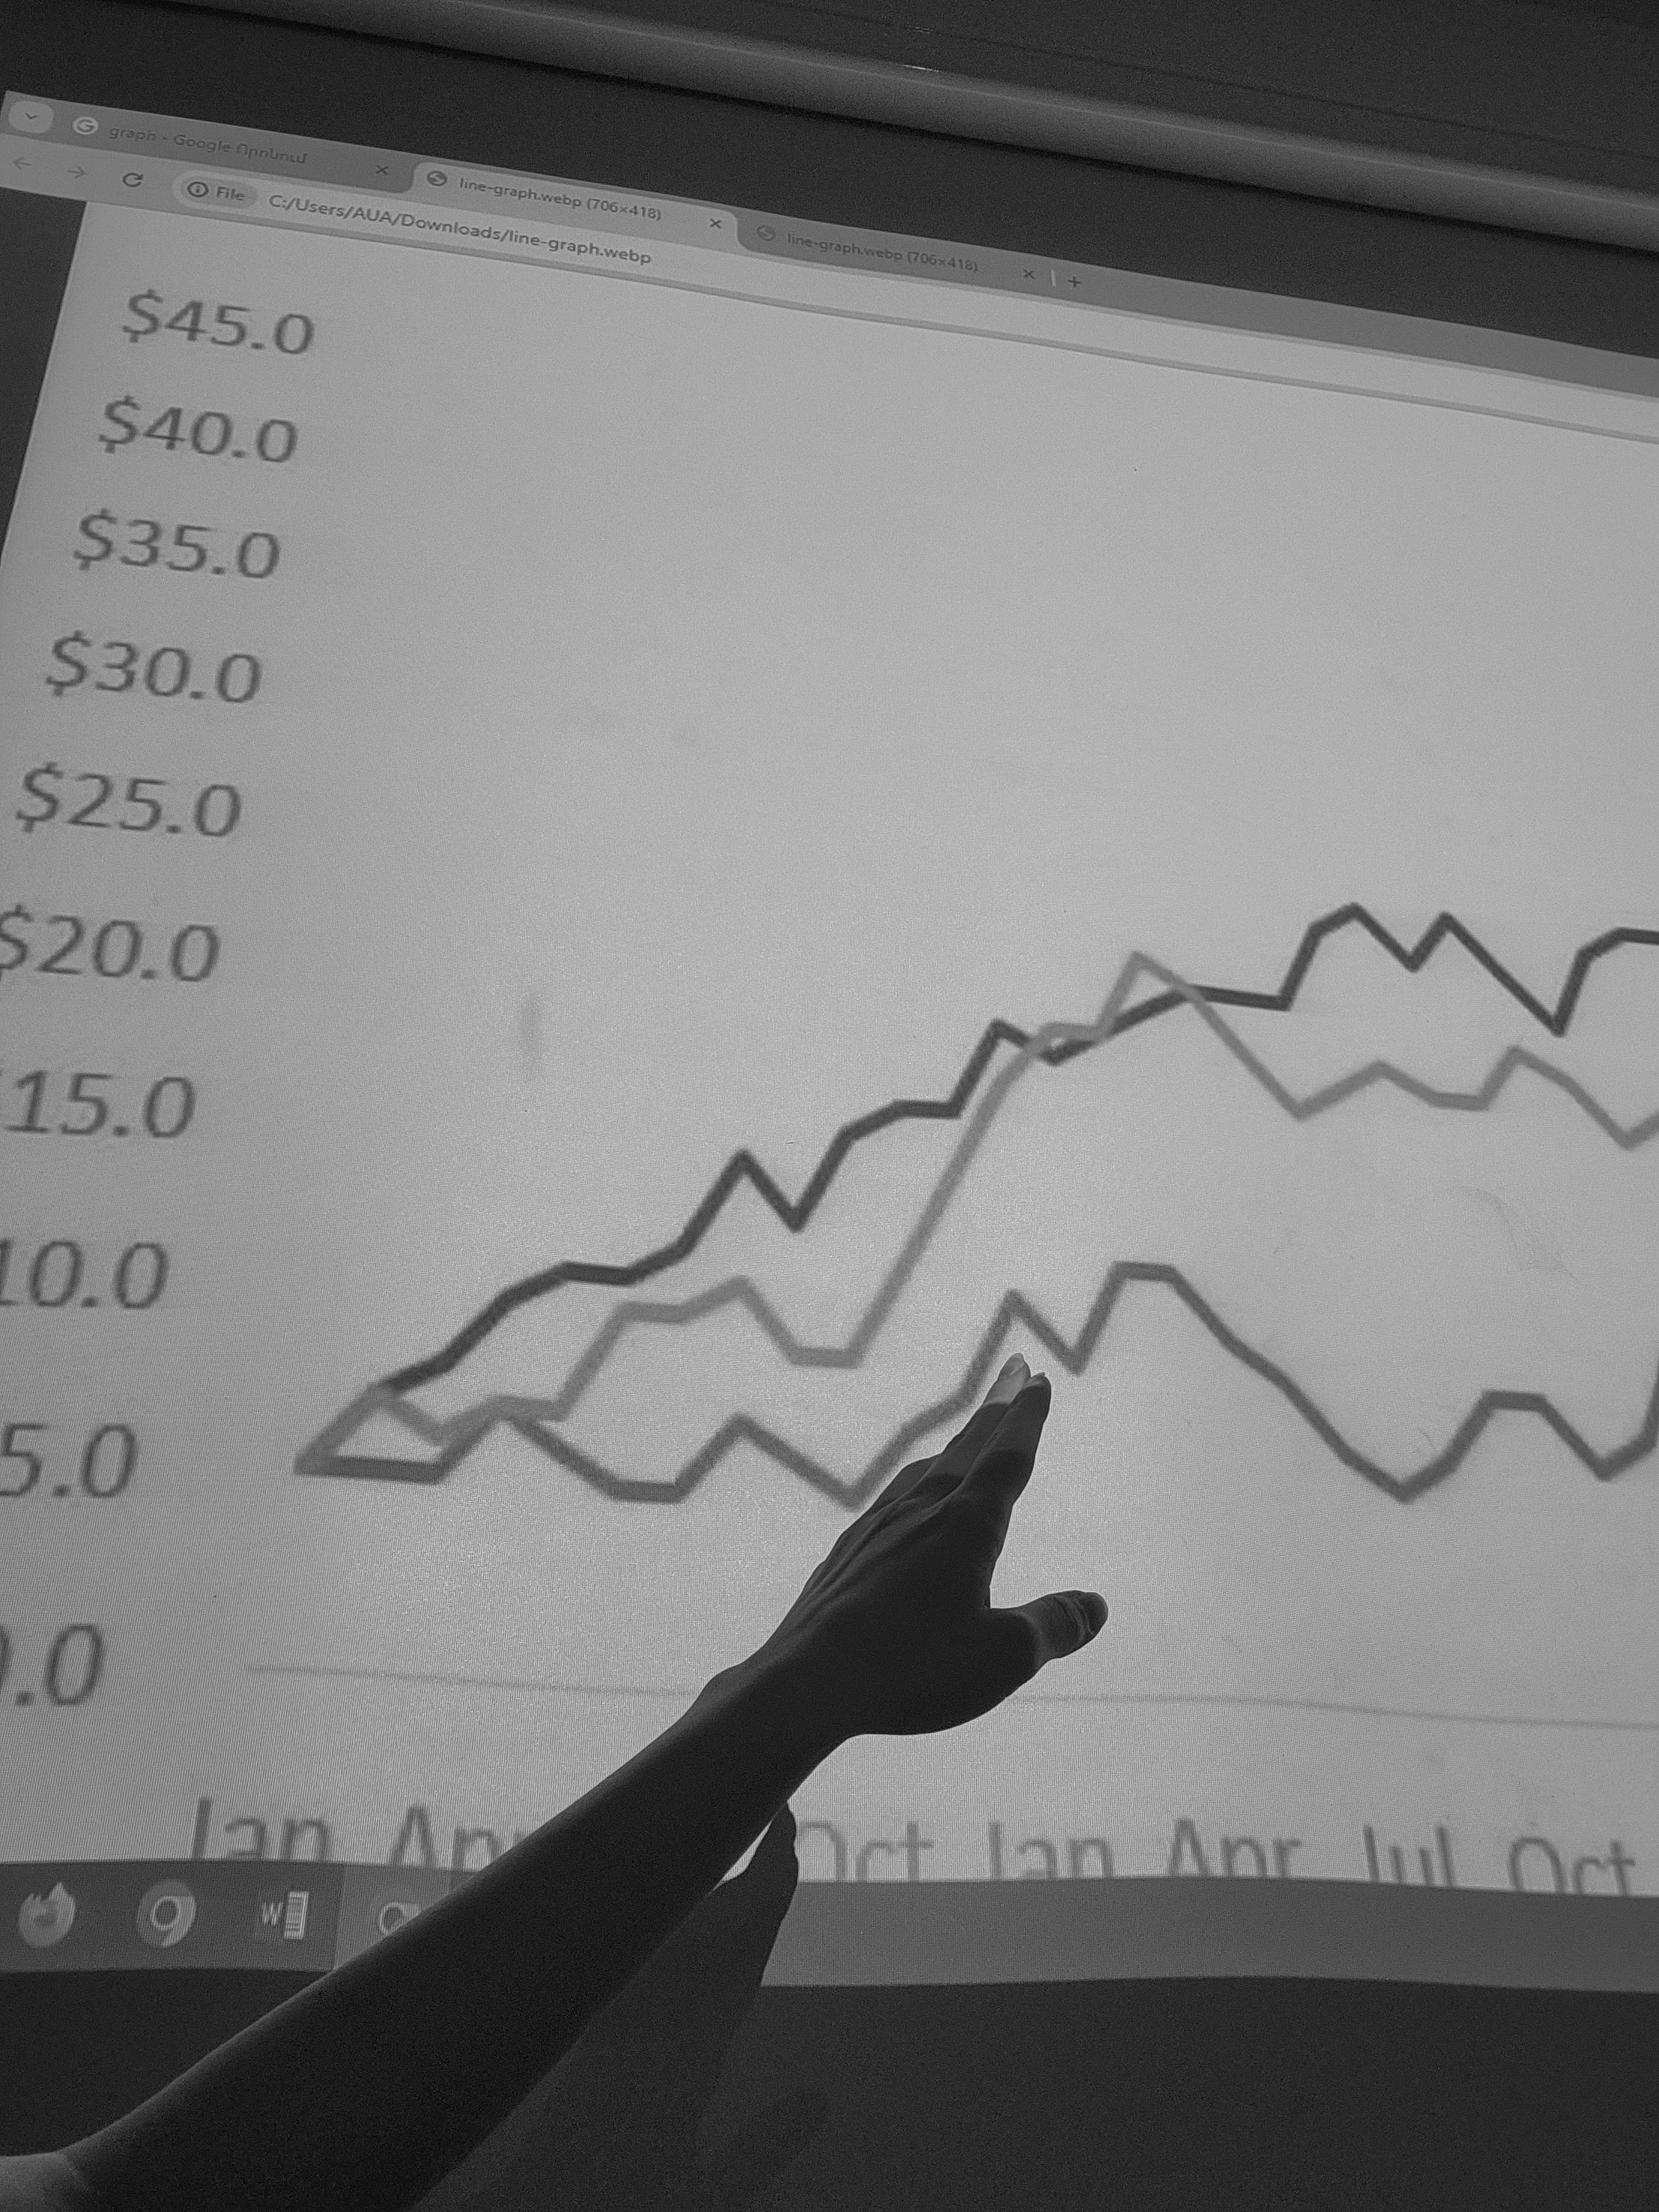pointing_gesture: (816, 1357, 1114, 1785)
